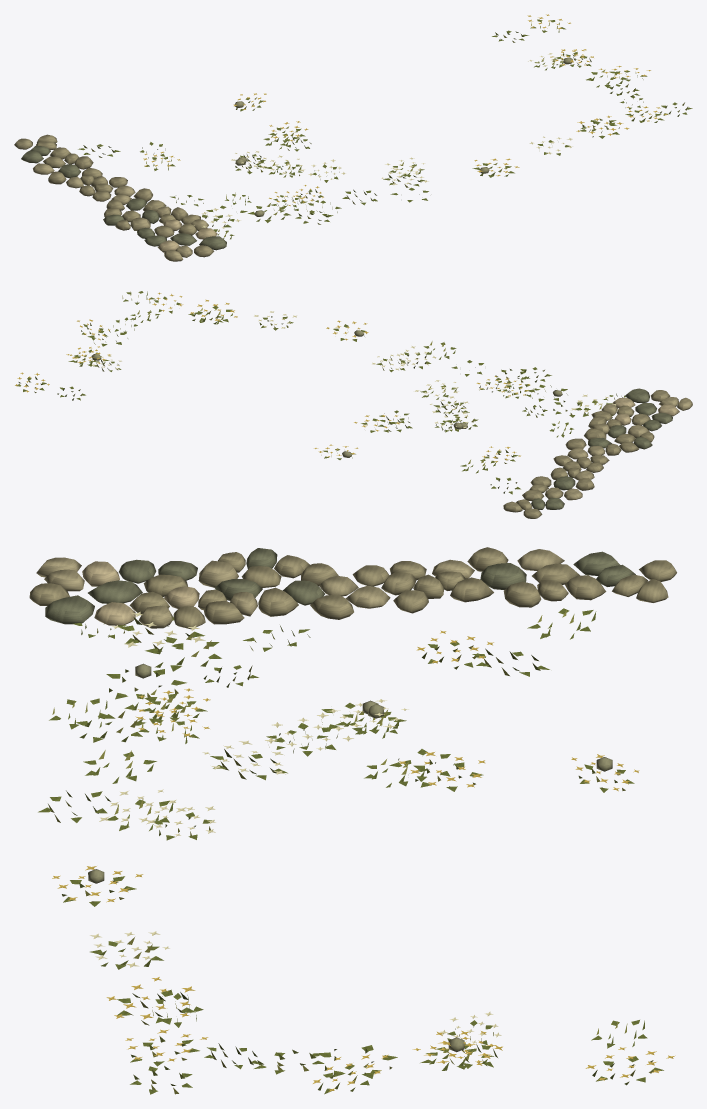
File: detail-patch-03-04.fbx
3 renders of one model, top to bottom at view 1: azimuth 30°, elevation 25°; view 2: azimuth 150°, elevation 25°; view 3: azimuth 270°, elevation 25°, orthographic. The views are drawn at different scales.
Visible parts, largest first — view 1: detail-patch-03-04__Geometry; view 2: detail-patch-03-04__Geometry; view 3: detail-patch-03-04__Geometry.
Part boxes in pixels (x1,y1,x2,y2): detail-patch-03-04__Geometry: (14,14,692,261); detail-patch-03-04__Geometry: (15,291,692,518); detail-patch-03-04__Geometry: (29,547,676,1094).
Bounding box in the file's own units: 10.31 × 0.1215 × 5.18.
